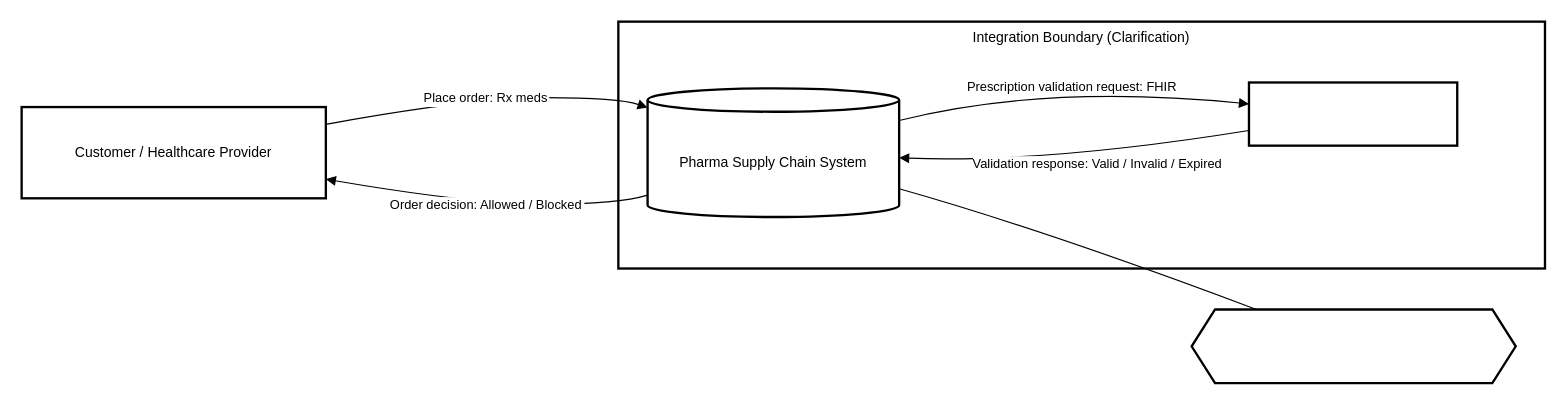
This 1565x404 diagram has some shape labels left out. The centre of each missing label's shape, as x and y in pixels:
Epic EHR System: (1352,113)
Only prescription validation data exchange: (1353,346)
